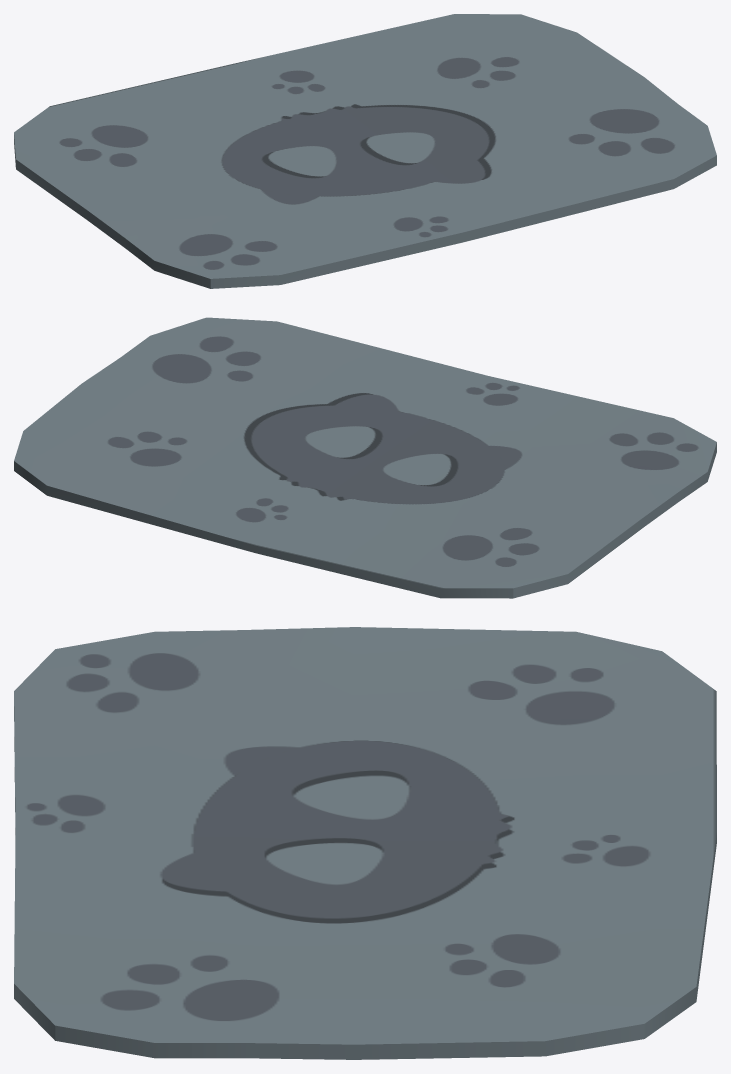
Rendered from small_carpet.fbx.
3 views of the same model, one above another, from view 1: azimuth 30°, elevation 25°; view 2: azimuth 150°, elevation 25°; view 3: azimuth 270°, elevation 25° (orthographic). The views are drawn at different scales.
Parts seen in each view (by area): view 1: pCube1; view 2: pCube1; view 3: pCube1.
Part boxes in pixels (x1,y1,x2,y2): pCube1: (14,14,716,288); pCube1: (14,317,716,598); pCube1: (14,627,716,1059).
Bounding box in the file's own units: 1733 × 44.59 × 1244.
Materials: 1 (1 with a texture image).
